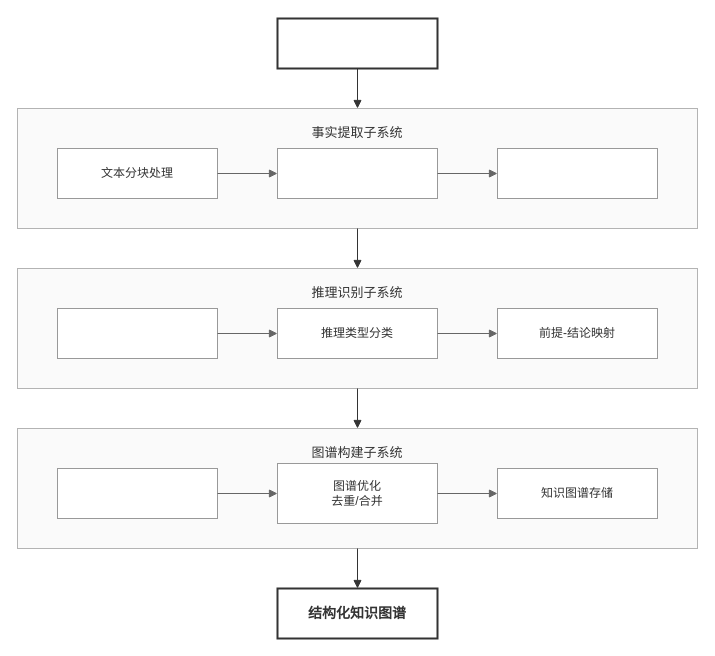
The diagram is 715 pixels wide and 656 high, and some of its shapes have lost their labels. Here are the shapes that lost their labels. From the top down, the centre of each, then its label:
At pixel 357 43: "研究报告文本".
At pixel 357 173: "LLM事实提取".
At pixel 577 173: "事实分类与规范化".
At pixel 137 333: "LLM推理关系识别".
At pixel 137 493: "节点与边构建".
